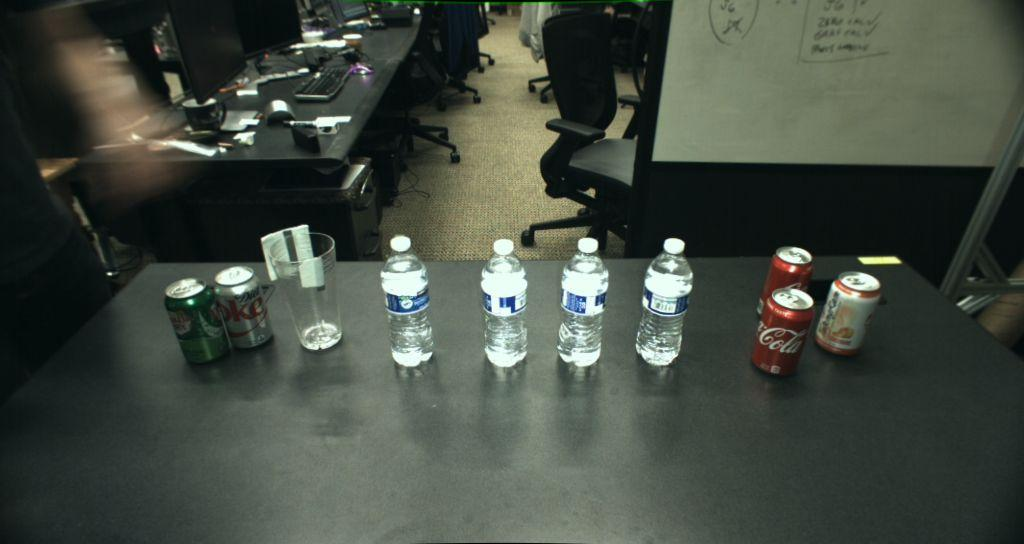can_coke: (751, 288, 814, 379)
can_diet_coke: (214, 264, 276, 350)
can_ginger_ale: (164, 278, 230, 364)
can_talking_rain_peach_nectarine: (814, 270, 881, 355)
water_bottle: (636, 238, 693, 366), (379, 236, 433, 367), (557, 237, 608, 367), (481, 239, 528, 367)
